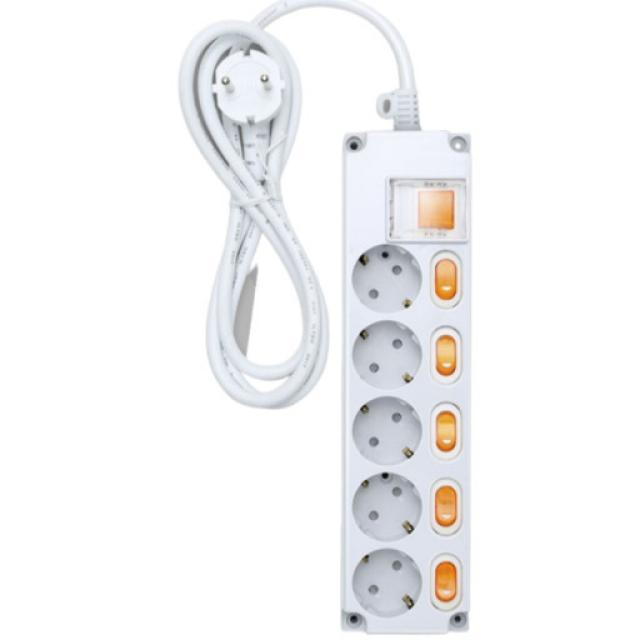typeb: (324, 112, 532, 640)
